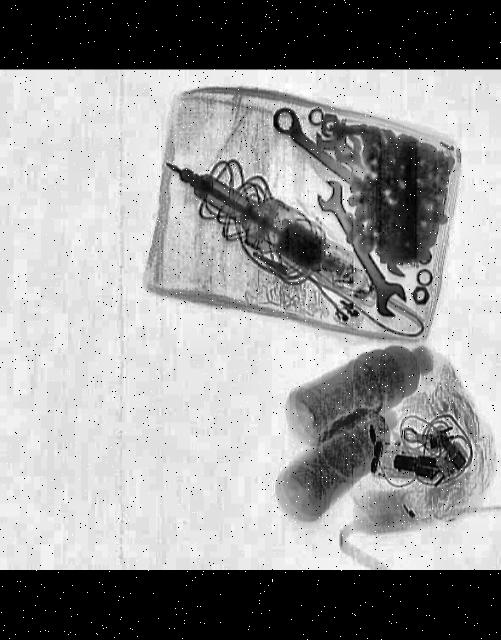Wrench: (307, 176, 410, 320), (263, 103, 362, 188), (327, 134, 376, 191), (308, 122, 359, 172)
